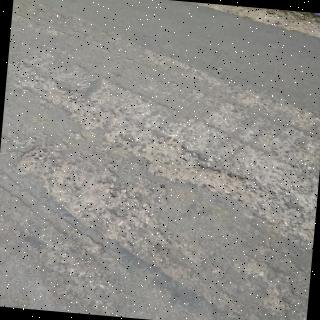pothole: (18, 144, 152, 240), (129, 137, 268, 210)
